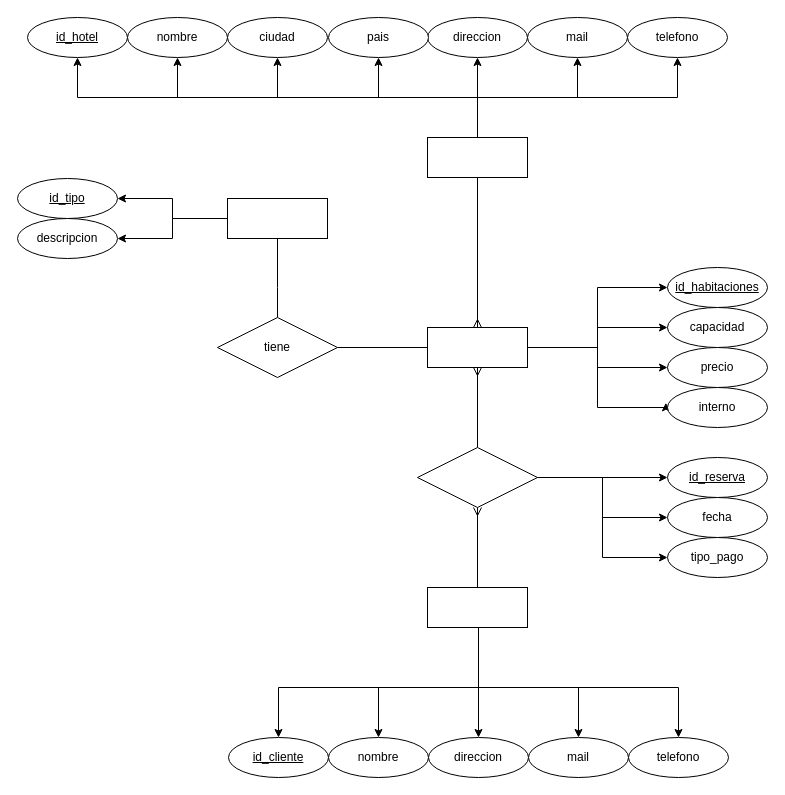
This 785x795 diagram has some shape labels left out. The shapes that lost their labels are listed below. From the top down, each one's box as (x1, y1, x2, y2) in pixels, then its label:
(426, 136, 528, 178): hotel
(226, 198, 328, 238): tipo
(426, 326, 528, 368): habitaciones
(416, 446, 538, 508): reserva
(426, 586, 528, 628): clientes
